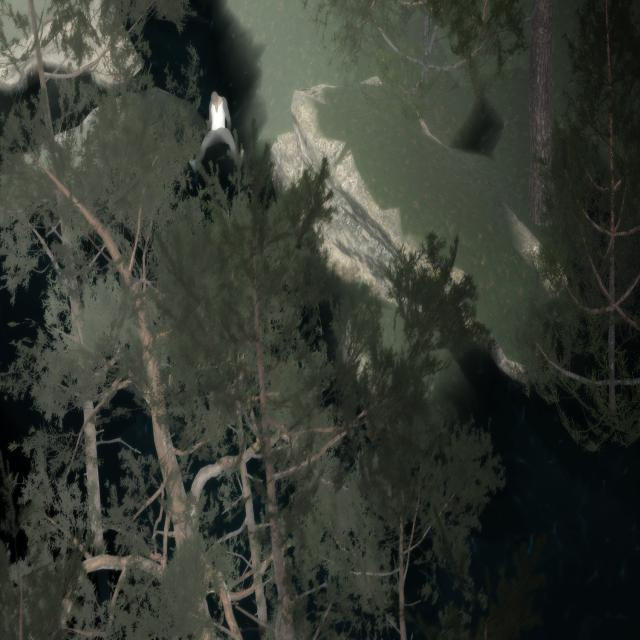Human: (184, 86, 249, 178)
